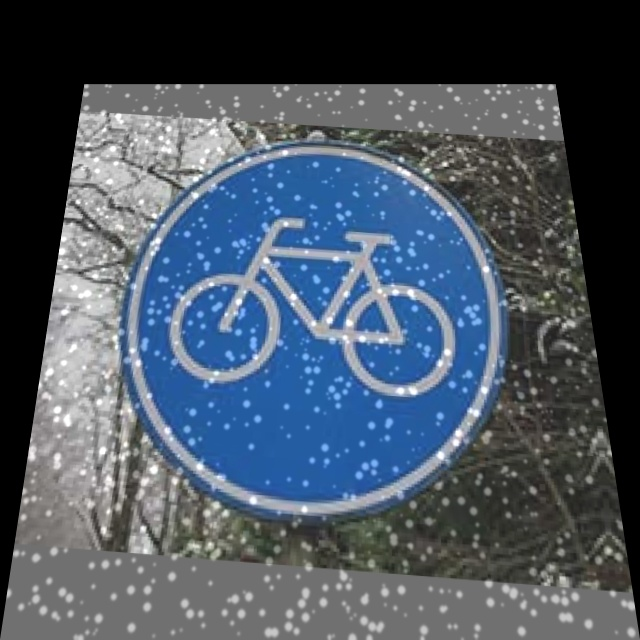Compulsory_Cycle_Track: (97, 139, 540, 507)
